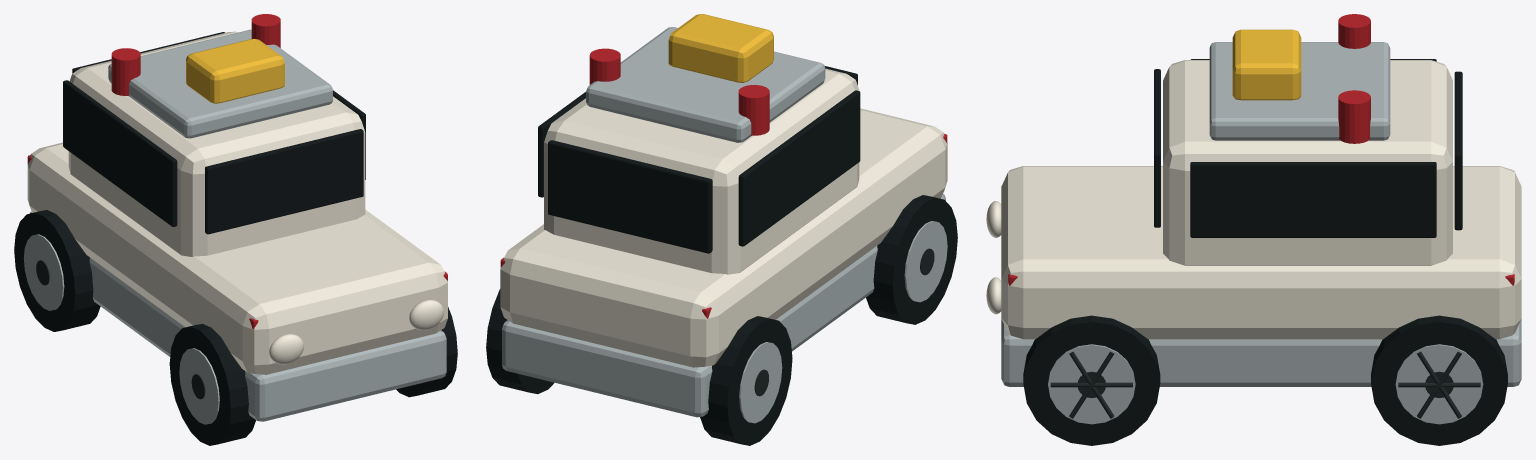
File: better.glb
3 renders of one model, left to right at view 1: azimuth 30°, elevation 25°; view 2: azimuth 150°, elevation 25°; view 3: azimuth 270°, elevation 25°, orthographic. The views are drawn at different scales.
Parts seen in each view (by area): view 1: Cabin, Rear window, Car chassis, Equipment, Red side stripe, Hub; view 2: Cabin, Rear window, Car chassis, Equipment, Red side stripe, Hub; view 3: Cabin, Rear window, Car chassis, Equipment, Hub, Red side stripe.
Part boxes in pixels (box(x1,y1,x2,y2)): Cabin: box(27, 31, 447, 374); Rear window: box(14, 32, 457, 445); Car chassis: box(23, 29, 446, 424); Equipment: box(186, 38, 284, 103); Red side stripe: box(27, 14, 447, 328); Hub: box(36, 260, 205, 399); Cabin: box(500, 68, 947, 367); Rear window: box(486, 66, 957, 445); Car chassis: box(502, 27, 947, 423); Equipment: box(668, 14, 773, 82); Red side stripe: box(500, 48, 947, 318); Hub: box(754, 248, 934, 396); Cabin: box(986, 60, 1521, 339); Rear window: box(1023, 59, 1507, 445); Car chassis: box(1001, 42, 1521, 424); Equipment: box(1232, 29, 1301, 100); Hub: box(1050, 351, 1480, 418); Red side stripe: box(1008, 14, 1514, 285).
Bounding box in the file's own units: 0.5486 × 0.68 × 0.9775.
